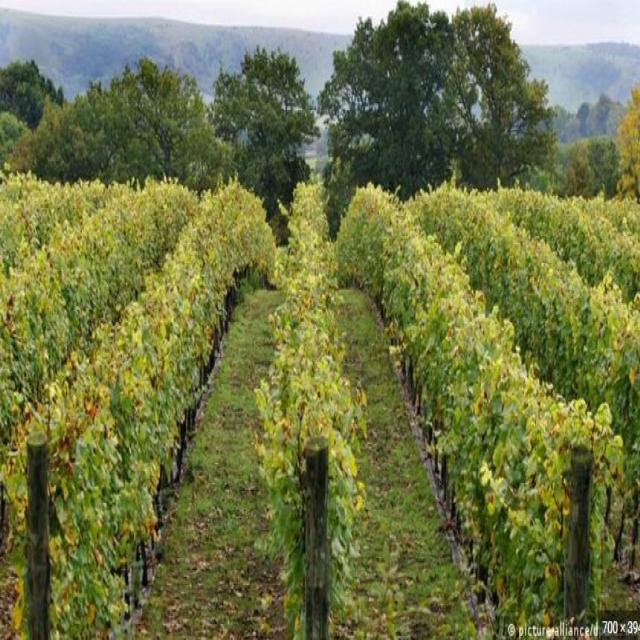row: (327, 279, 495, 640), (132, 276, 292, 639)
